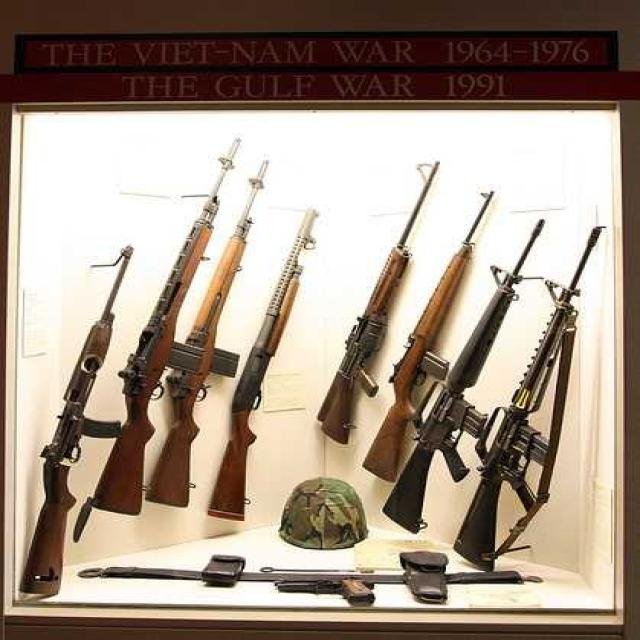heavyweapon: (80, 129, 253, 519), (453, 218, 615, 580)
